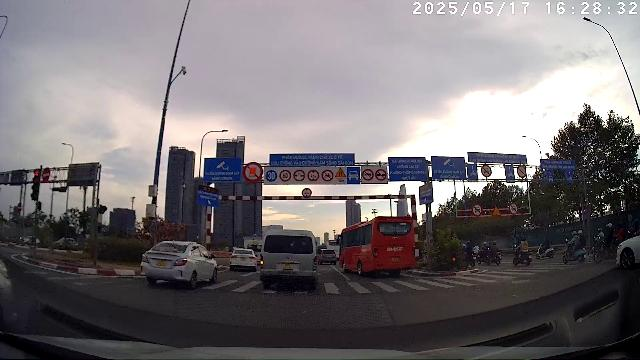103a-cam-oto: (472, 203, 483, 217), (481, 164, 492, 177), (508, 202, 519, 214)
127-toc-do-toi-da-60: (279, 169, 292, 182)
